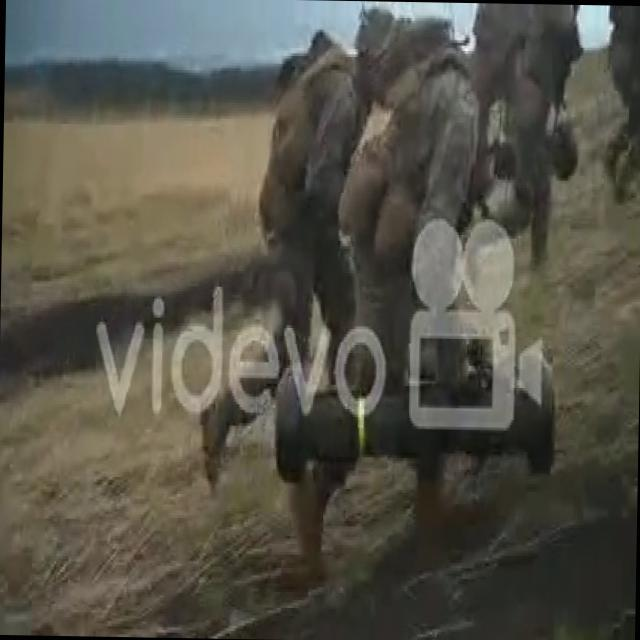rocket: (278, 362, 552, 473)
